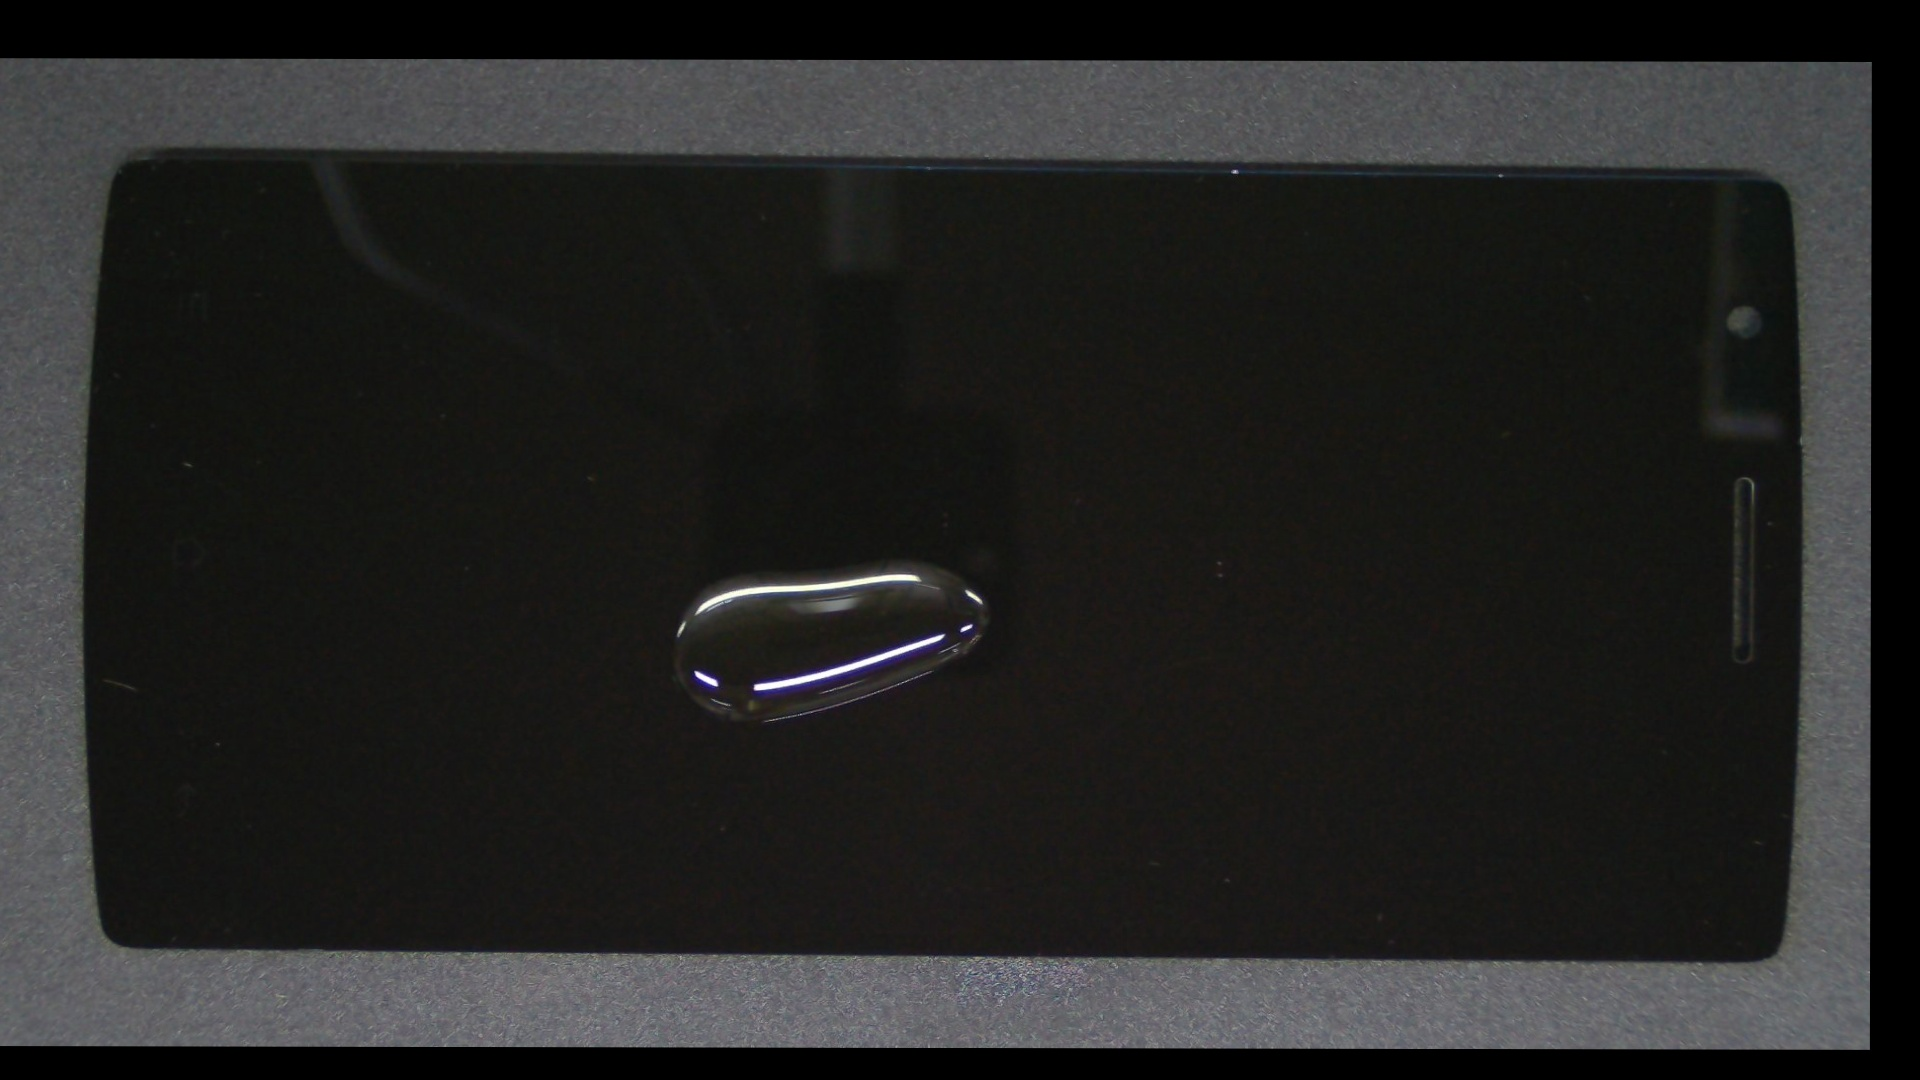oil: (443, 307, 1383, 807)
